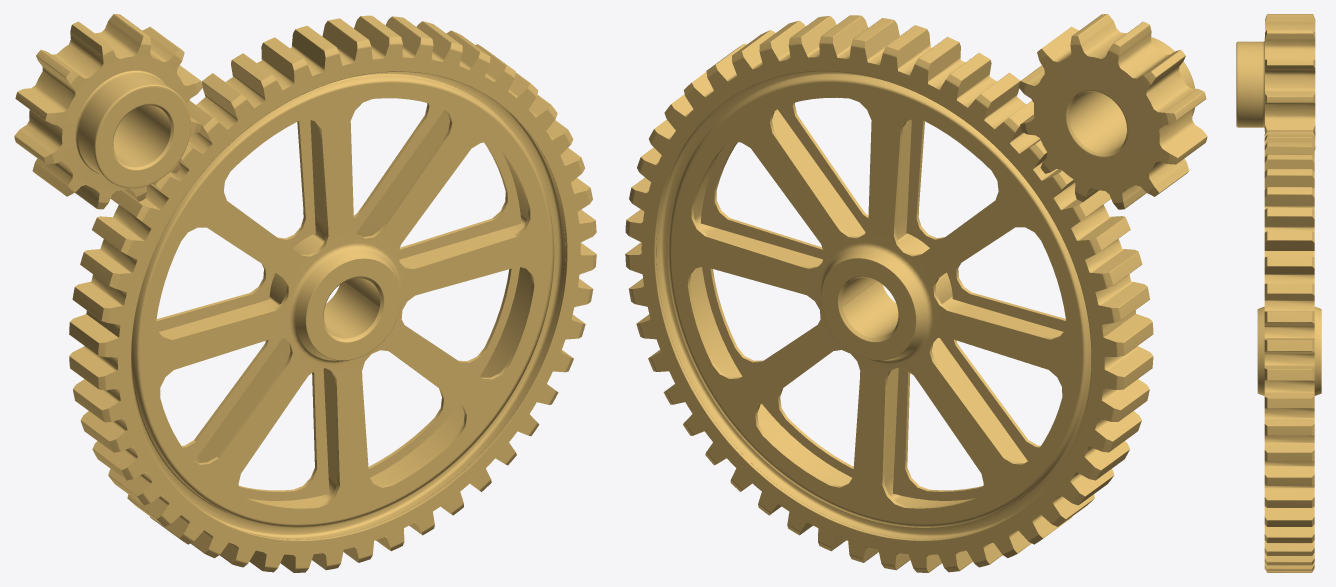
The model's file is gears.glb.
3 views of the same model, side by side, from view 1: azimuth 30°, elevation 25°; view 2: azimuth 150°, elevation 25°; view 3: azimuth 270°, elevation 25° (orthographic). The views are drawn at different scales.
Parts seen in each view (by area): view 1: part2, part1; view 2: part2, part1; view 3: part2, part1.
Part boxes in pixels (left/top/right/bottom): part2: left=69, top=15, right=596, bottom=572; part1: left=14, top=14, right=202, bottom=209; part2: left=625, top=15, right=1153, bottom=572; part1: left=1019, top=14, right=1207, bottom=209; part2: left=1257, top=129, right=1321, bottom=572; part1: left=1236, top=14, right=1315, bottom=150.
Bounding box in the file's own units: 79.44 × 79.81 × 13.76.
